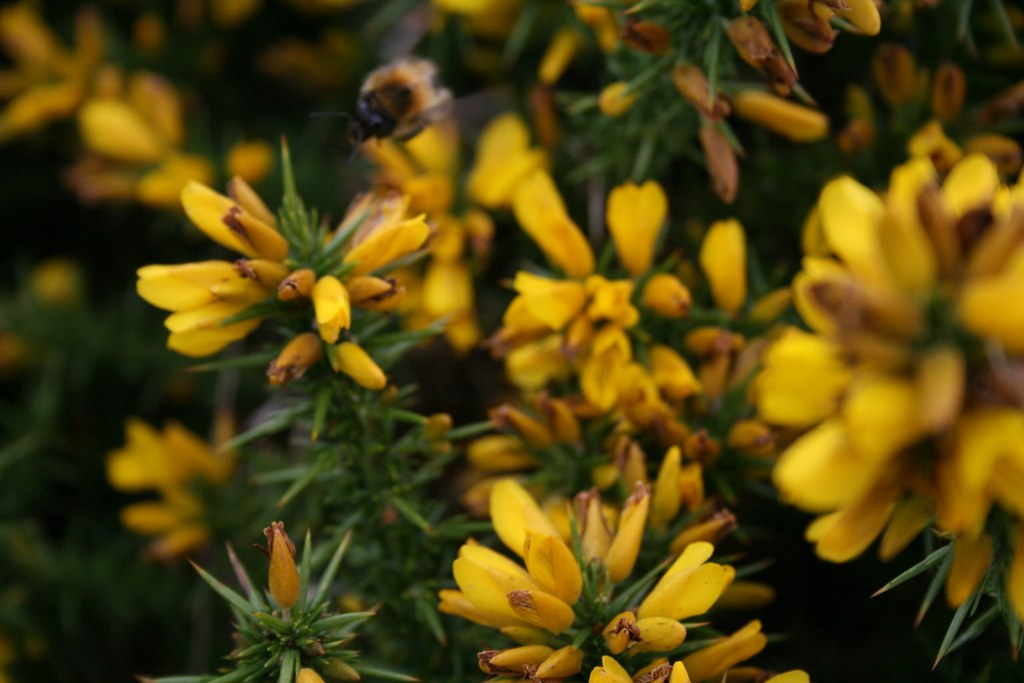bee: (310, 46, 486, 151)
insect: (435, 0, 1023, 682), (147, 156, 485, 406), (0, 0, 276, 210), (106, 408, 265, 566), (266, 521, 303, 617)
